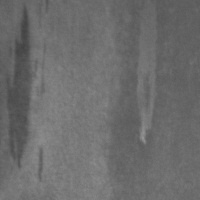inclusion: (2, 2, 37, 171), (33, 140, 50, 184)
